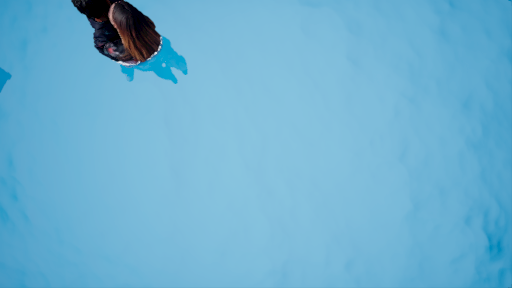person: (70, 4, 205, 89)
